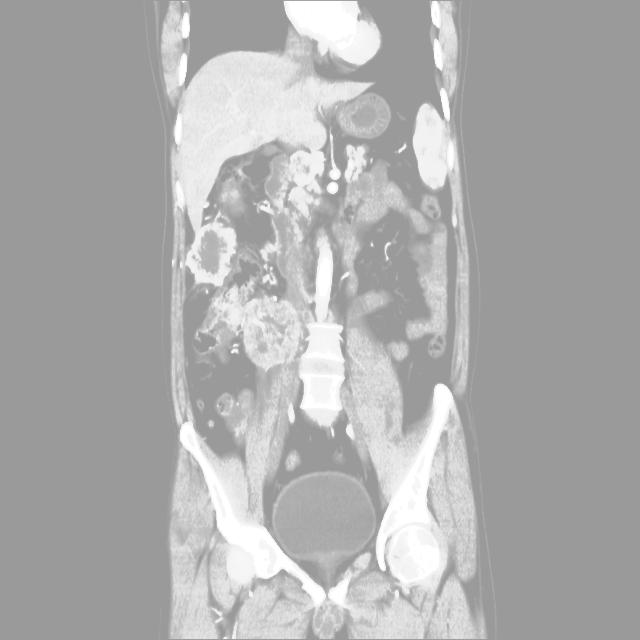TUMOR: (103, 186, 504, 406)
